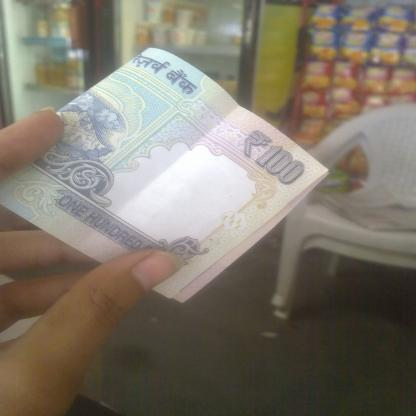Old100Back: (0, 47, 333, 307)
